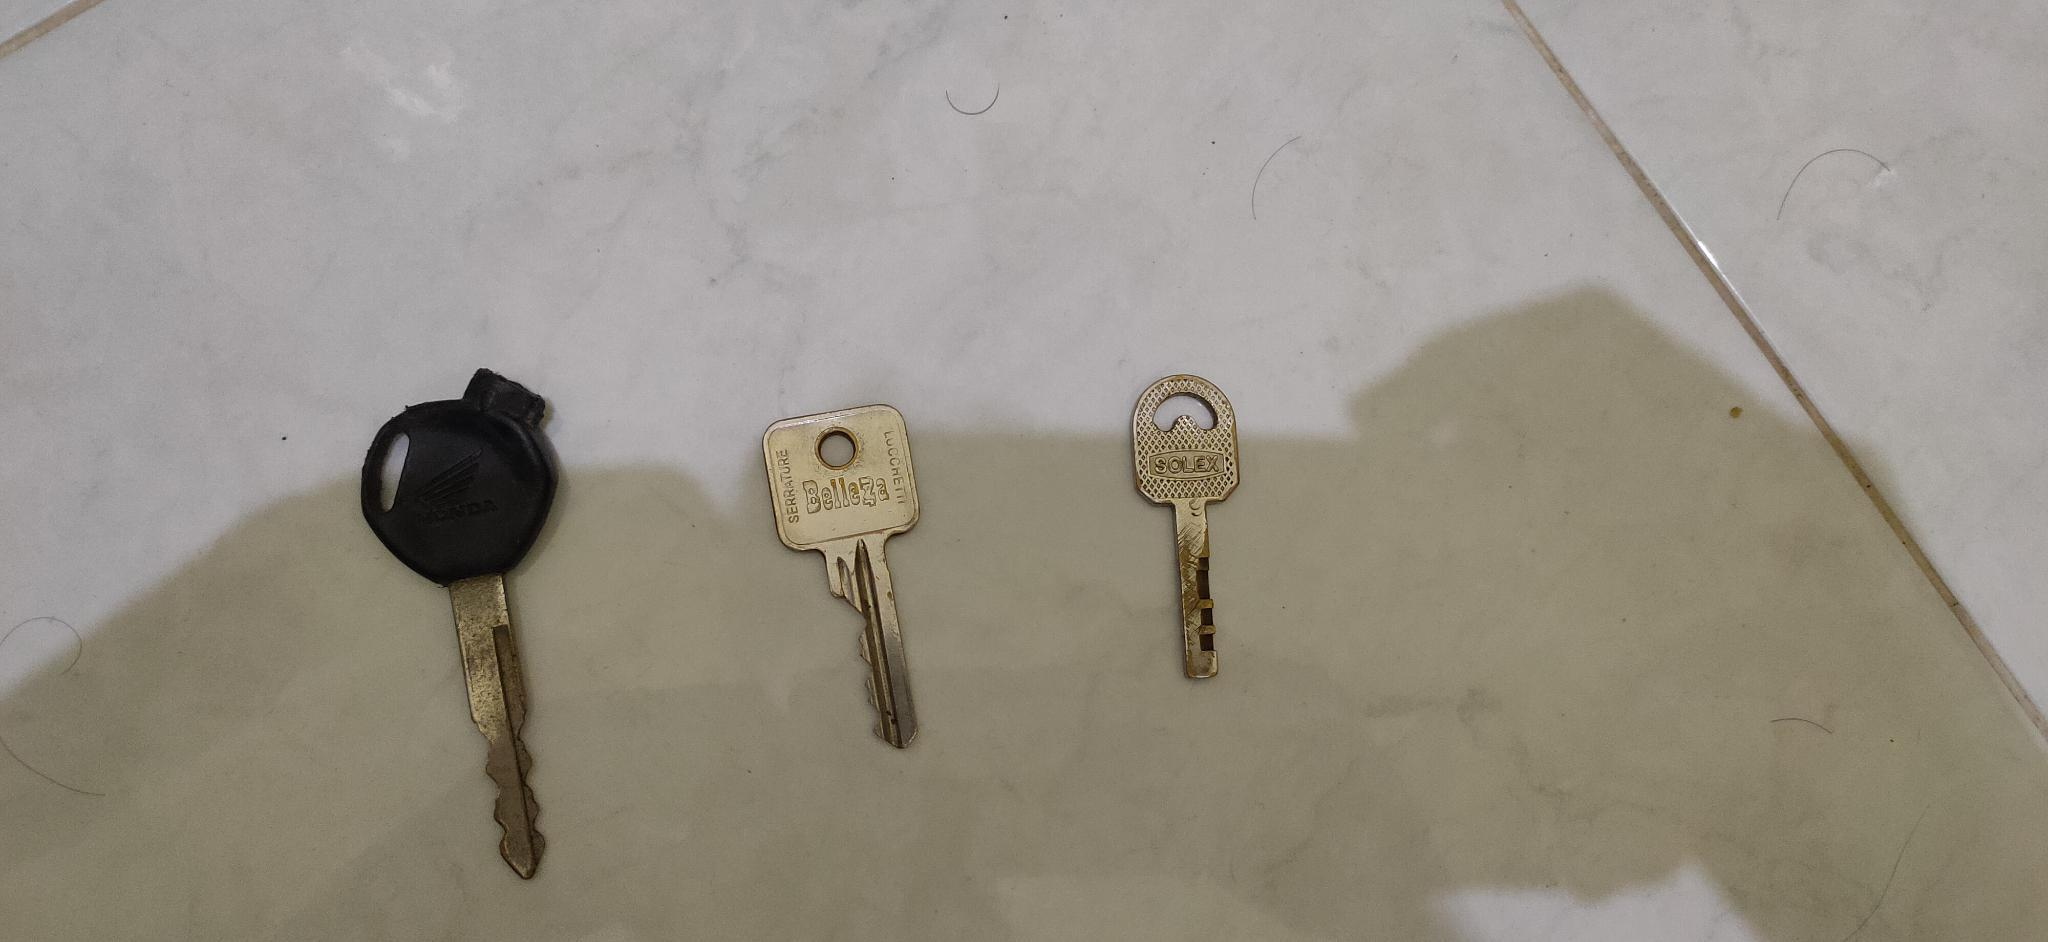keys: (345, 355, 583, 879), (758, 392, 967, 762), (1118, 363, 1273, 689)
